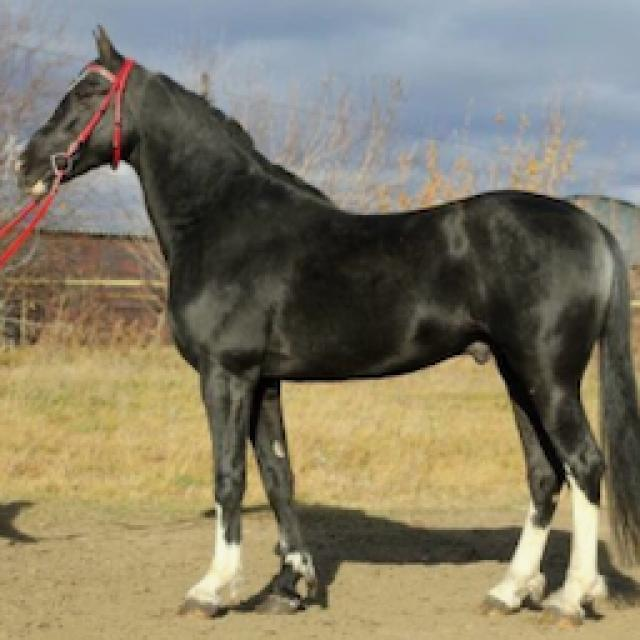Horse: (8, 20, 638, 628)
